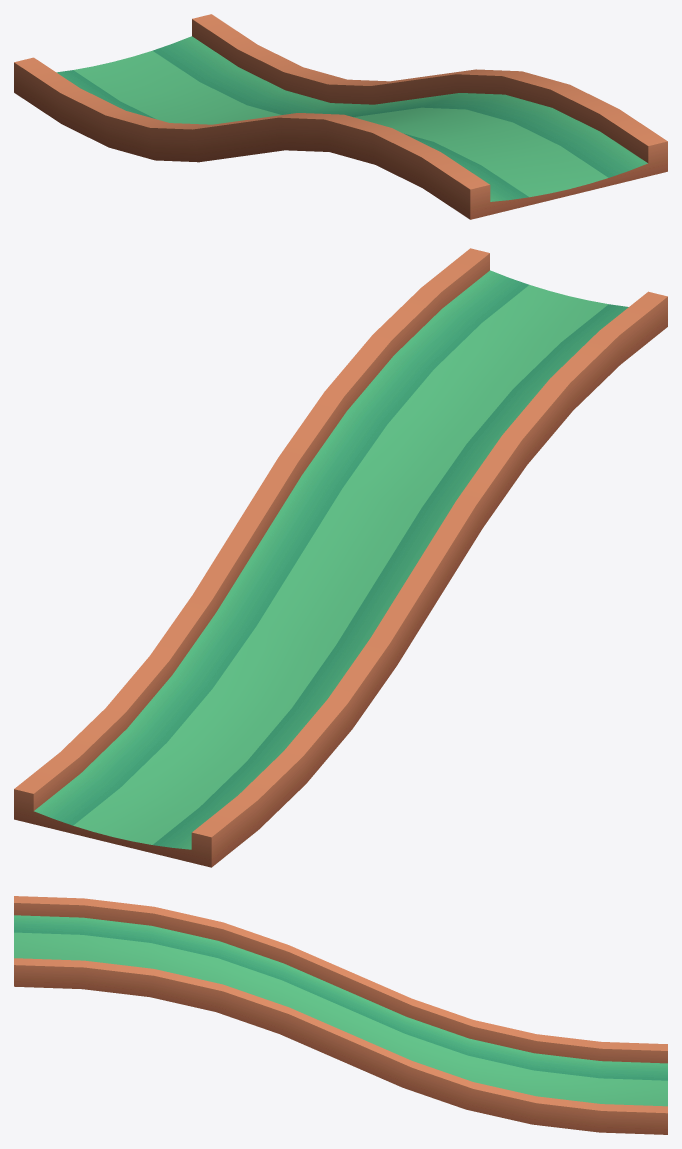
File: spline-concave-straight-hill-complete.glb
3 views of the same model, one above another, from view 1: azimuth 30°, elevation 25°; view 2: azimuth 150°, elevation 25°; view 3: azimuth 270°, elevation 25° (orthographic). The views are drawn at different scales.
Visible parts, largest first — view 1: spline-concave-straight-hill-complete; view 2: spline-concave-straight-hill-complete; view 3: spline-concave-straight-hill-complete.
Boxes of the visible parts, x1=… form: spline-concave-straight-hill-complete: x1=14, y1=14, x2=667, y2=219; spline-concave-straight-hill-complete: x1=14, y1=248, x2=667, y2=867; spline-concave-straight-hill-complete: x1=14, y1=896, x2=667, y2=1134.
Bounding box in the file's own units: 0.9998 × 1.15 × 4.
Materials: 1 (1 with a texture image).
